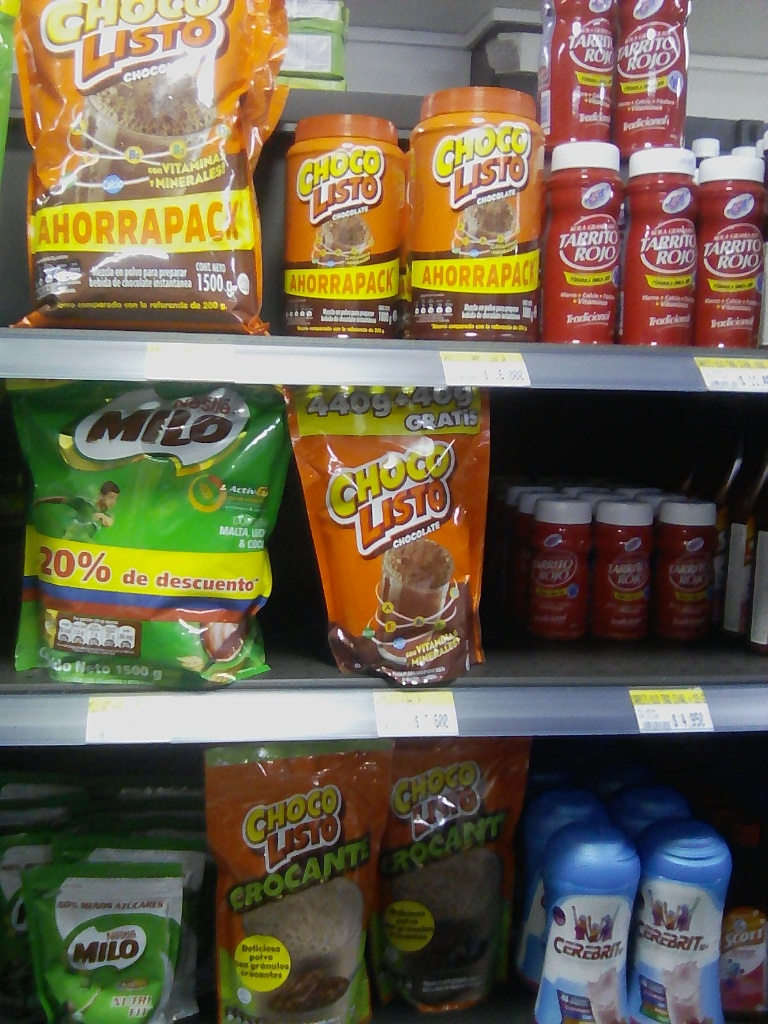COL0170102DYP50000: (193, 744, 376, 1021)
COL0170103DYP1,500: (19, 1, 277, 332)
COL0170103TRR00100: (278, 110, 402, 338)
COL0170205DYP20000: (28, 874, 190, 1024)
